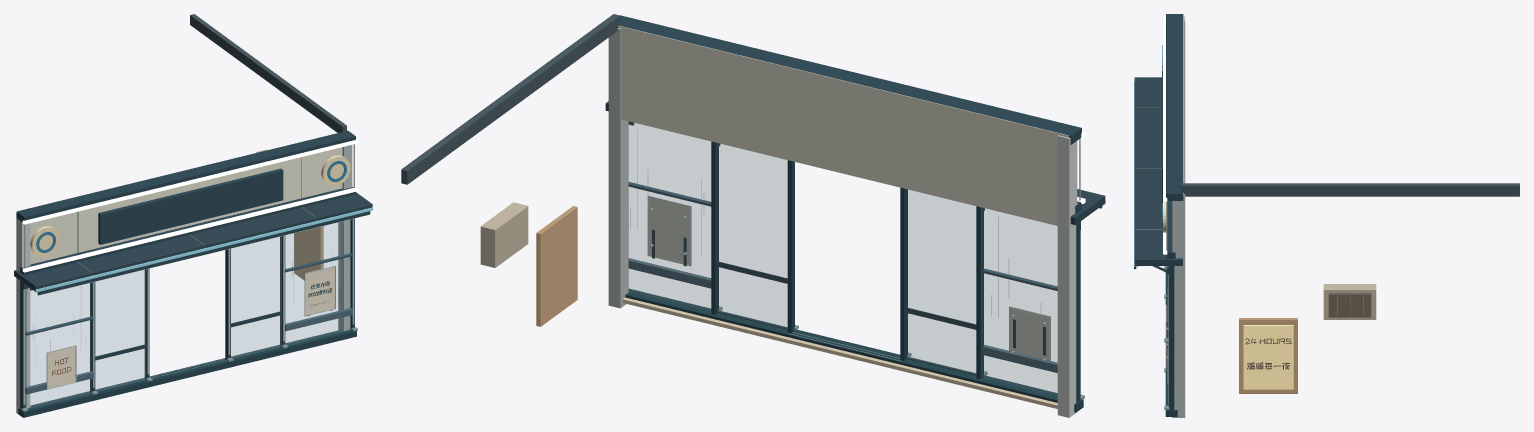
The model's file is facade.glb.
3 renders of one model, left to right at view 1: azimuth 30°, elevation 25°; view 2: azimuth 150°, elevation 25°; view 3: azimuth 270°, elevation 25°, orthographic. The views are drawn at different scales.
Visible parts, largest first — view 1: Frame corner connector.012, Existing window frame.006, Sign lower structural closure.001, Continuous interior front lintel.001, Canopy shell.001, Existing window glass.002, Fixed entrance sidelight.002, Fixed entrance sidelight.003, Existing window glass.003, Web | Facade/0004.001, Top sliding track.002, Repair | Window poster backing.002 (+9 smaller); view 2: Continuous interior front lintel.001, Existing window glass.003, Existing window glass.002, Fixed entrance sidelight.003, Fixed entrance sidelight.002, Existing window frame.006, Sign lower structural closure.001, Wall to glazing jamb return.002, Wall to glazing jamb return.003, Web | Facade/0077.001, Web | Facade/0078.001, Repair | Window poster backing.002 (+5 smaller); view 3: Canopy shell.001, Web | Facade/0077.001, Sign lower structural closure.001, Web | Facade/0079.001, Wall to glazing jamb return.003, Web | Facade/0078.001, Existing window frame.006, Web | Facade/0073.001, Web | Facade/0072.001, Web | Facade/0004.001, Frame corner connector.012, Top sliding track.002.
Boxes of the visible parts, x1,y1,x2,y2 form: Frame corner connector.012: (14,157,372,407); Existing window frame.006: (18,218,356,417); Sign lower structural closure.001: (16,130,355,392); Continuous interior front lintel.001: (30,147,342,264); Canopy shell.001: (14,192,371,290); Existing window glass.002: (26,283,90,408); Fixed entrance sidelight.002: (95,270,145,391); Fixed entrance sidelight.003: (231,236,281,358); Existing window glass.003: (285,220,350,345); Web | Facade/0004.001: (22,139,358,272); Top sliding track.002: (23,144,364,408); Repair | Window poster backing.002: (47,267,334,388); Continuous interior front lintel.001: (618,25,1068,225); Existing window glass.003: (629,122,710,311); Existing window glass.002: (982,208,1057,396); Fixed entrance sidelight.003: (718,144,787,328); Fixed entrance sidelight.002: (907,189,975,375); Existing window frame.006: (625,141,1083,412); Sign lower structural closure.001: (618,15,1081,375); Wall to glazing jamb return.002: (1057,135,1077,417); Wall to glazing jamb return.003: (608,28,628,308); Web | Facade/0077.001: (401,14,619,184); Web | Facade/0078.001: (536,206,577,326); Repair | Window poster backing.002: (648,197,1049,360); Canopy shell.001: (1134,77,1182,265); Web | Facade/0077.001: (1181,183,1519,196); Sign lower structural closure.001: (1166,14,1183,258); Web | Facade/0079.001: (1243,325,1293,389); Wall to glazing jamb return.003: (1172,194,1185,417); Web | Facade/0078.001: (1239,318,1297,393); Existing window frame.006: (1165,258,1177,416); Web | Facade/0073.001: (1328,293,1371,317); Web | Facade/0072.001: (1323,284,1376,319); Web | Facade/0004.001: (1163,17,1167,254); Frame corner connector.012: (1134,70,1370,406); Top sliding track.002: (1134,84,1168,406).
Size of the model in its own units: 9.67 by 5.62 by 8.48.
